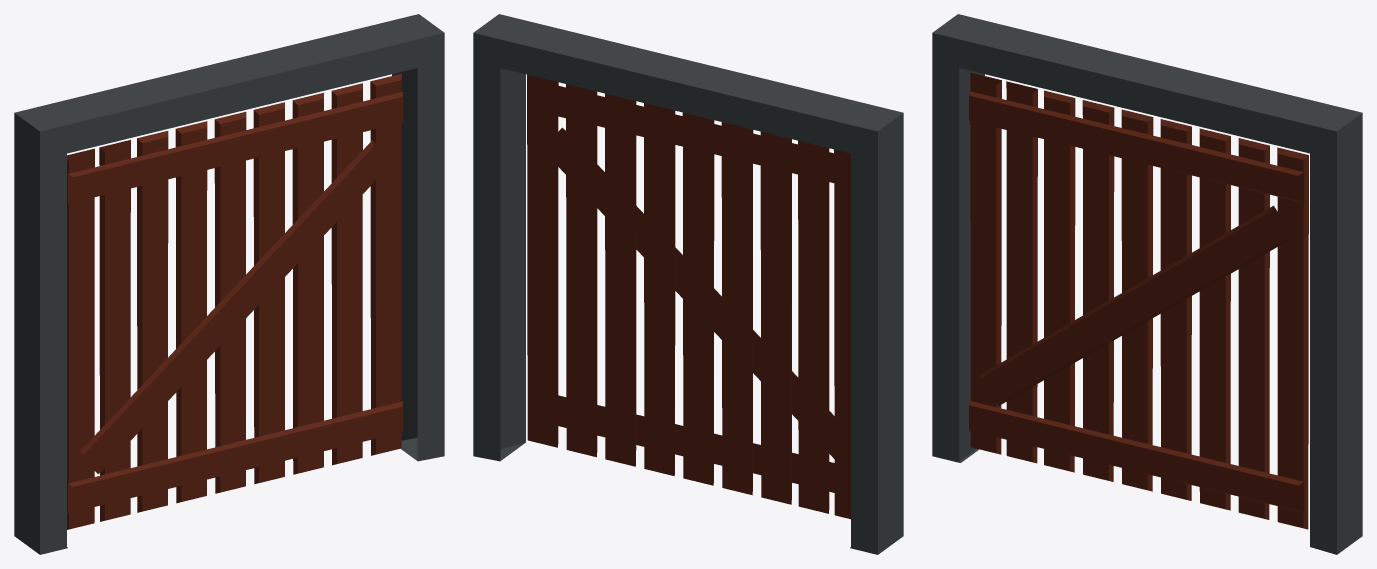
The model's file is Drzwi.fbx.
3 views of the same model, side by side, from view 1: azimuth 30°, elevation 25°; view 2: azimuth 150°, elevation 25°; view 3: azimuth 330°, elevation 25° (orthographic).
Parts seen in each view (by area): view 1: Cube.006, Cube.002; view 2: Cube.006, Cube.002; view 3: Cube.006, Cube.002.
Boxes of the visible parts, box(x1,y1,x2,y2) form: Cube.006: box(67, 73, 403, 529); Cube.002: box(14, 14, 444, 554); Cube.006: box(527, 74, 850, 519); Cube.002: box(473, 14, 903, 554); Cube.006: box(969, 72, 1308, 529); Cube.002: box(932, 14, 1362, 554).
Size of the model in its own units: 6 by 6 by 0.6611.
